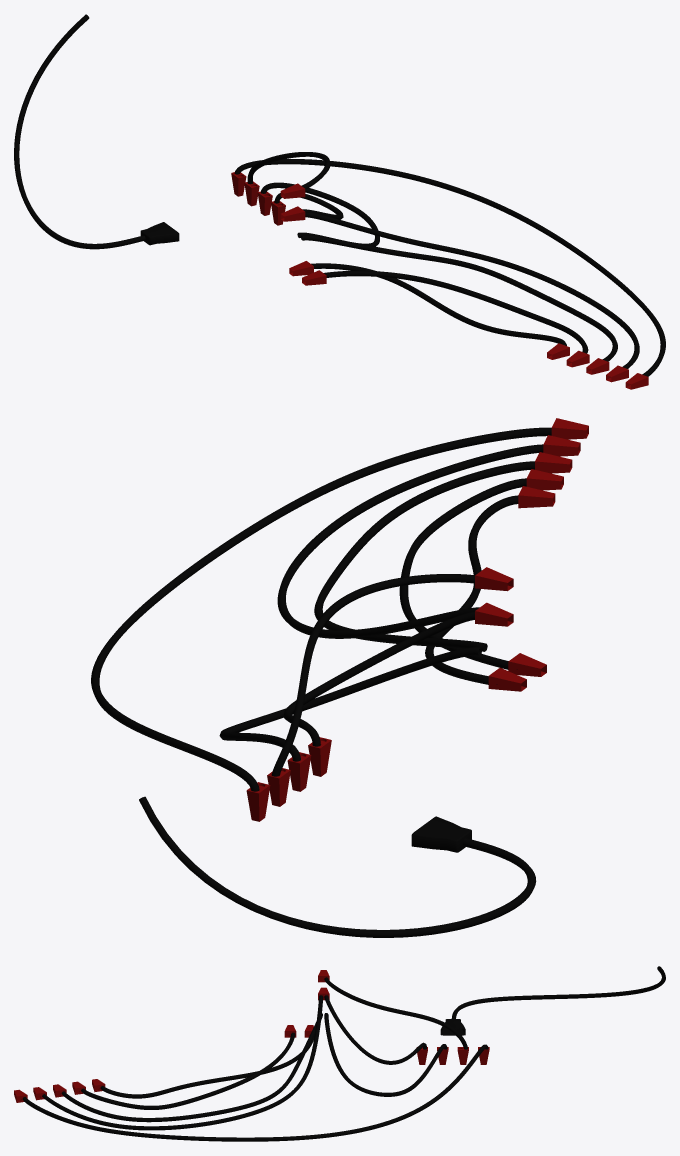
Rendered from Wires.fbx.
3 views of the same model, one above another, from view 1: azimuth 30°, elevation 25°; view 2: azimuth 150°, elevation 25°; view 3: azimuth 270°, elevation 25° (orthographic). The views are drawn at different scales.
Visible parts, largest first — view 1: NurbsPath.002, NurbsPath.006, NurbsPath.008, NurbsPath.010, NurbsPath.004, NurbsPath.003, NurbsPath.009, NurbsPath.005, Cube; view 2: NurbsPath.002, NurbsPath.010, NurbsPath.006, NurbsPath.008, NurbsPath.005, NurbsPath.009, NurbsPath.004, NurbsPath.007, NurbsPath.003, Cube; view 3: NurbsPath.002, NurbsPath.006, NurbsPath.008, NurbsPath.004, NurbsPath.010, NurbsPath.003, NurbsPath.009, NurbsPath.005, NurbsPath.007, Cube.
Part boxes in pixels (x1,y1,x2,y2): NurbsPath.002: [234, 159, 665, 376]; NurbsPath.006: [305, 212, 639, 368]; NurbsPath.008: [301, 235, 617, 361]; NurbsPath.010: [14, 14, 145, 249]; NurbsPath.004: [323, 270, 588, 353]; NurbsPath.003: [311, 263, 566, 345]; NurbsPath.009: [261, 182, 379, 246]; NurbsPath.005: [247, 152, 330, 189]; Cube: [140, 222, 179, 245]; NurbsPath.002: [91, 427, 551, 791]; NurbsPath.010: [139, 796, 536, 937]; NurbsPath.006: [277, 444, 543, 638]; NurbsPath.008: [314, 461, 534, 651]; NurbsPath.005: [271, 574, 474, 776]; NurbsPath.009: [219, 647, 482, 761]; NurbsPath.004: [399, 478, 526, 669]; NurbsPath.007: [283, 611, 474, 746]; NurbsPath.003: [425, 495, 518, 684]; Cube: [411, 816, 471, 852]; NurbsPath.002: [22, 1044, 488, 1141]; NurbsPath.006: [42, 995, 323, 1130]; NurbsPath.008: [61, 1013, 322, 1122]; NurbsPath.004: [81, 1032, 295, 1109]; NurbsPath.010: [451, 966, 665, 1018]; NurbsPath.003: [100, 1035, 314, 1098]; NurbsPath.009: [324, 1013, 447, 1096]; NurbsPath.005: [324, 977, 467, 1049]; NurbsPath.007: [324, 995, 426, 1064]; Cube: [440, 1019, 465, 1035].
Size of the model in its own units: 634 by 182 by 1216.
